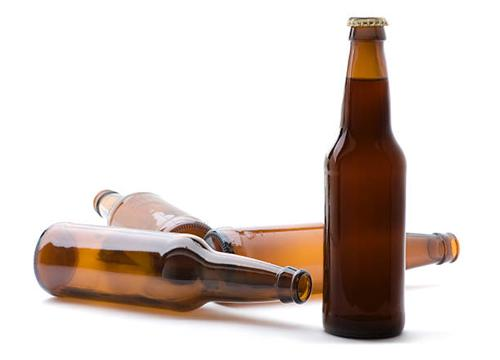alcohol: (324, 14, 407, 342), (34, 222, 311, 312), (200, 226, 464, 300), (92, 189, 230, 267)
